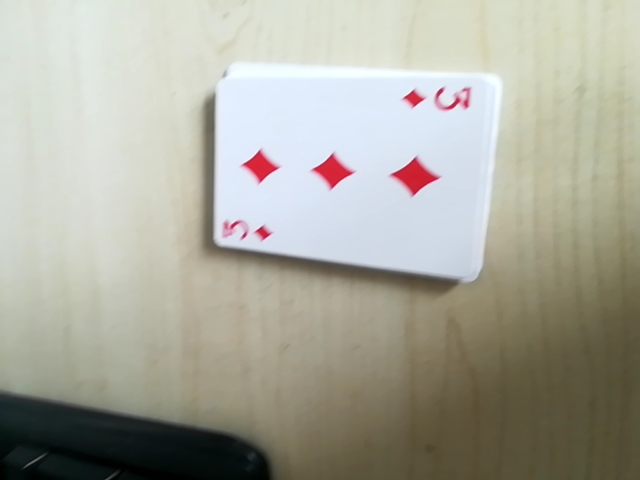fk 3: (397, 75, 479, 121), (214, 213, 276, 249)
